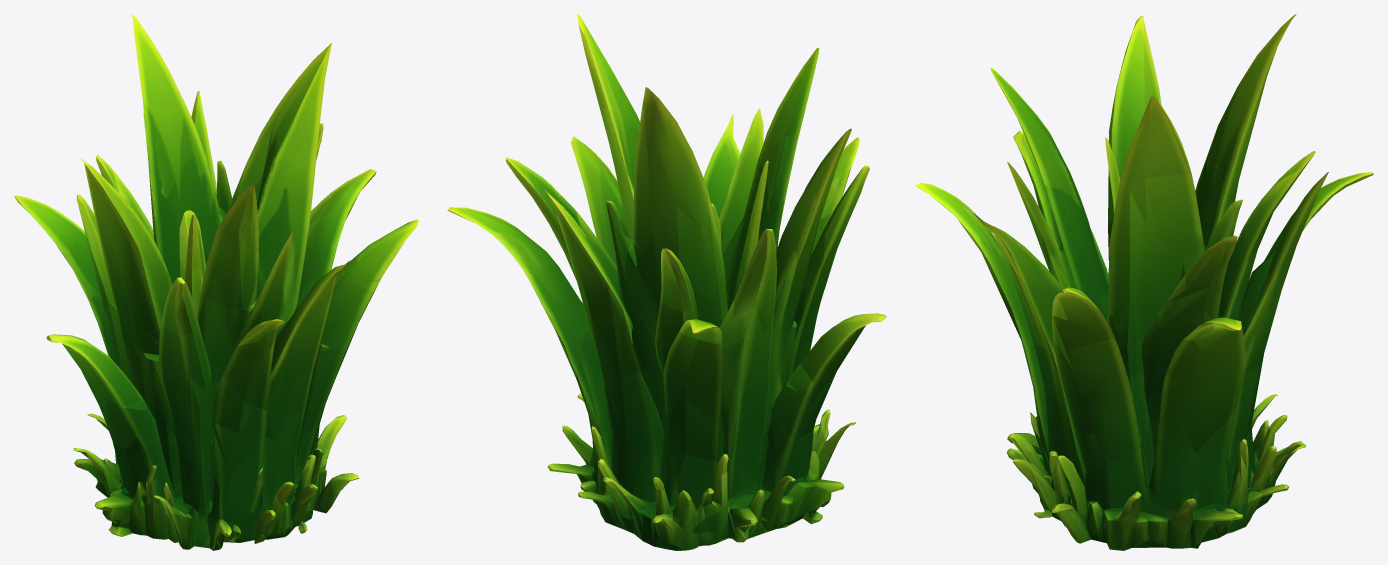
File: reed.glb
The picture shows the model from 3 angles, left to right: view 1: azimuth 30°, elevation 25°; view 2: azimuth 150°, elevation 25°; view 3: azimuth 270°, elevation 25°; orthographic projection. The views are drawn at different scales.
Bounding box in the file's own units: 1.64 × 1.9 × 1.63.
1 material, 1 textured.
